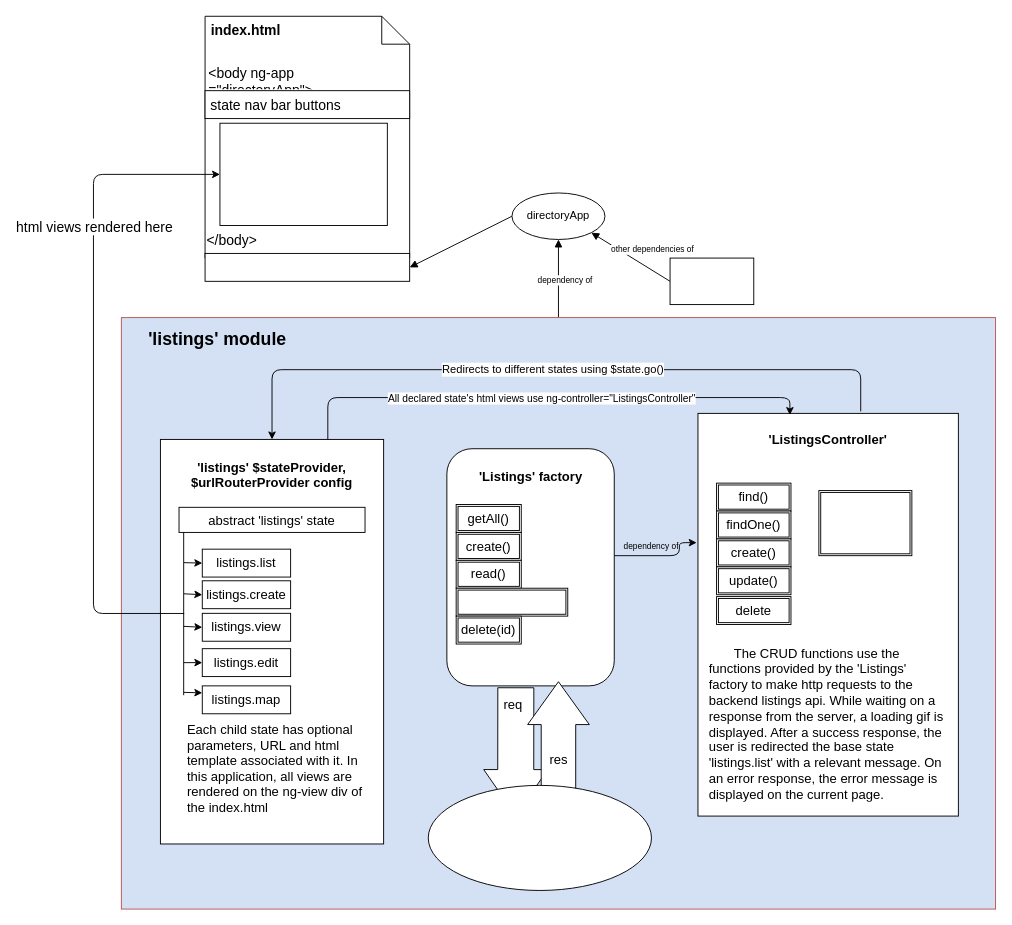
This 1012x925 diagram has some shape labels left out. The shapes that lost their labels are listed below. From the top down, each one's centre as x and y in pixels, then its label:
point 303,174: <div ng-view></div>
point 307,266: <script src="...
point 711,281: Angular-googlemaps ngMessages ...
point 865,523: other misc. functions and variables
point 511,601: update(id,listing)
point 539,837: http request and response to the backend listings api
